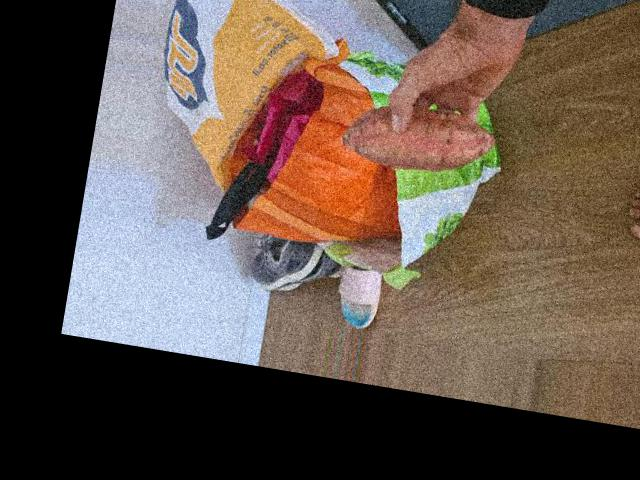sweet_potato: (338, 88, 503, 180)
